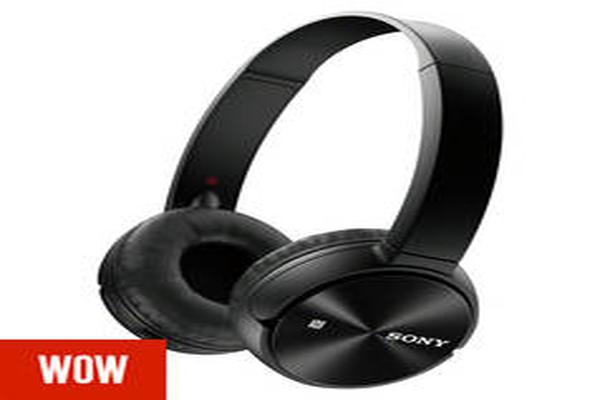headphone: (80, 11, 504, 397)
